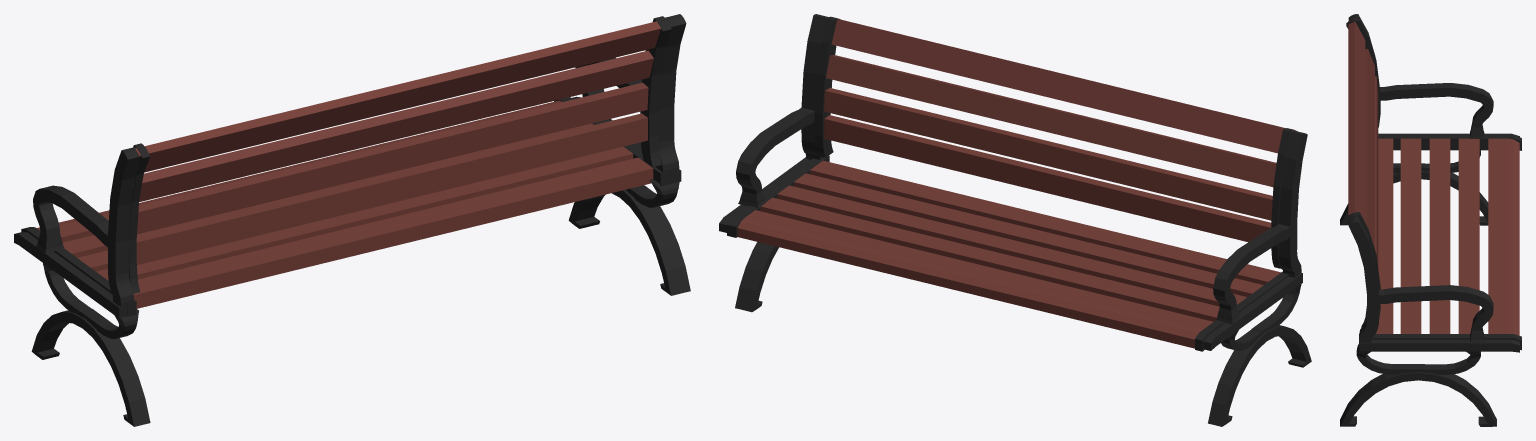
Rendered from longchair4.gltf.
3 renders of one model, left to right at view 1: azimuth 30°, elevation 25°; view 2: azimuth 150°, elevation 25°; view 3: azimuth 270°, elevation 25°, orthographic. The views are drawn at different scales.
Visible parts, largest first — view 1: 柱体, Cube.003, Cube.005, Cube.006, Cube.007, Cube.008, 柱体.002, Cube.002, Cube, Cube.004; view 2: Cube.004, Cube.008, 柱体, Cube.007, Cube.006, Cube.005, 柱体.002, Cube, Cube.003, Cube.001, Cube.002; view 3: 柱体.002, Cube.004, 柱体, Cube.001, Cube.002, Cube, Cube.008, Cube.003, Cube.007, Cube.006.
Boxes of the visible parts, x1,y1,x2,y2 form: 柱体: (14,143,150,426); Cube.003: (133,157,653,308); Cube.005: (136,113,647,265); Cube.006: (137,82,648,234); Cube.007: (132,50,653,201); Cube.008: (135,21,661,172); 柱体.002: (554,14,690,295); Cube.002: (96,146,633,280); Cube: (62,123,593,257); Cube.004: (37,100,562,242); Cube.004: (737,210,1213,348); Cube.008: (831,19,1297,153); 柱体: (1195,128,1311,426); Cube.007: (826,55,1276,186); Cube.006: (824,88,1272,220); Cube.005: (824,115,1271,242); 柱体.002: (719,14,840,312); Cube: (760,197,1219,321); Cube.003: (810,160,1280,284); Cube.001: (777,185,1246,306); Cube.002: (793,173,1263,296); 柱体.002: (1340,212,1521,426); Cube.004: (1488,138,1519,335); 柱体: (1340,14,1521,225); Cube.001: (1429,138,1450,333); Cube.002: (1400,138,1421,333); Cube: (1458,138,1479,333); Cube.008: (1348,18,1365,221); Cube.003: (1376,138,1393,333); Cube.007: (1365,48,1374,248); Cube.006: (1375,76,1378,267).
Bounding box in the file's own units: 1.78 × 0.8119 × 0.6493.
